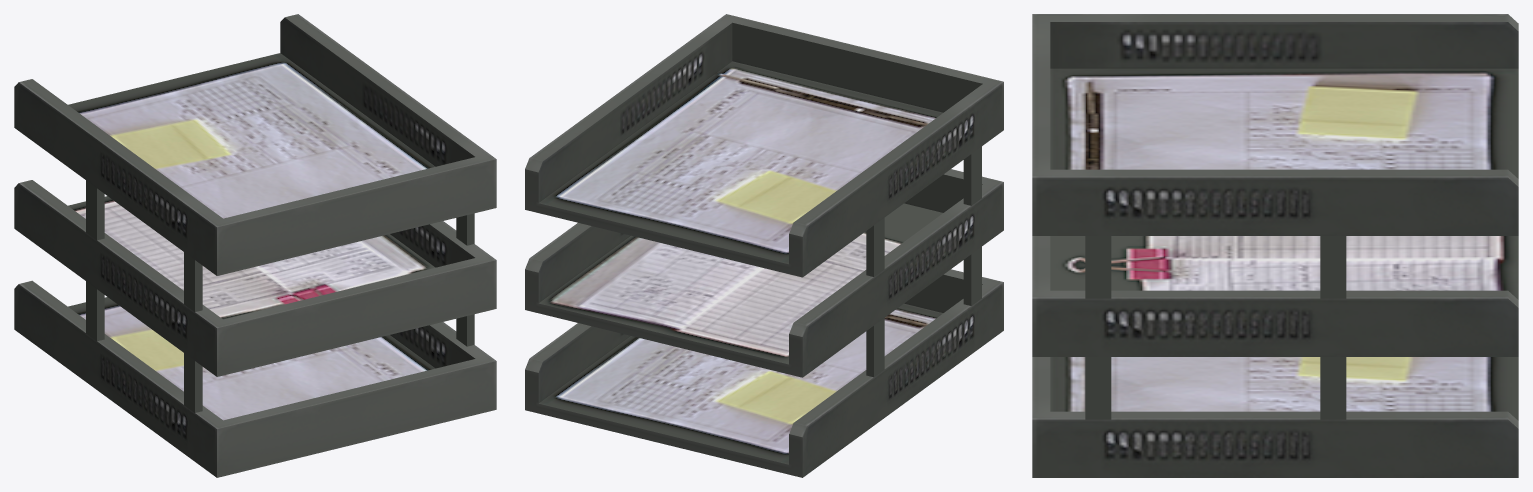
Rendered from OfficeSupplies.FBX.
The picture shows the model from 3 angles, left to right: view 1: azimuth 30°, elevation 25°; view 2: azimuth 150°, elevation 25°; view 3: azimuth 270°, elevation 25°; orthographic projection. The views are drawn at different scales.
Parts seen in each view (by area): view 1: OfficeSupplies; view 2: OfficeSupplies; view 3: OfficeSupplies.
Boxes of the visible parts, left/top/right/bottom form: OfficeSupplies: left=14, top=14, right=496, bottom=477; OfficeSupplies: left=525, top=14, right=1003, bottom=477; OfficeSupplies: left=1032, top=14, right=1518, bottom=477.
Bounding box in the file's own units: 0.3701 × 0.3169 × 0.4647.
